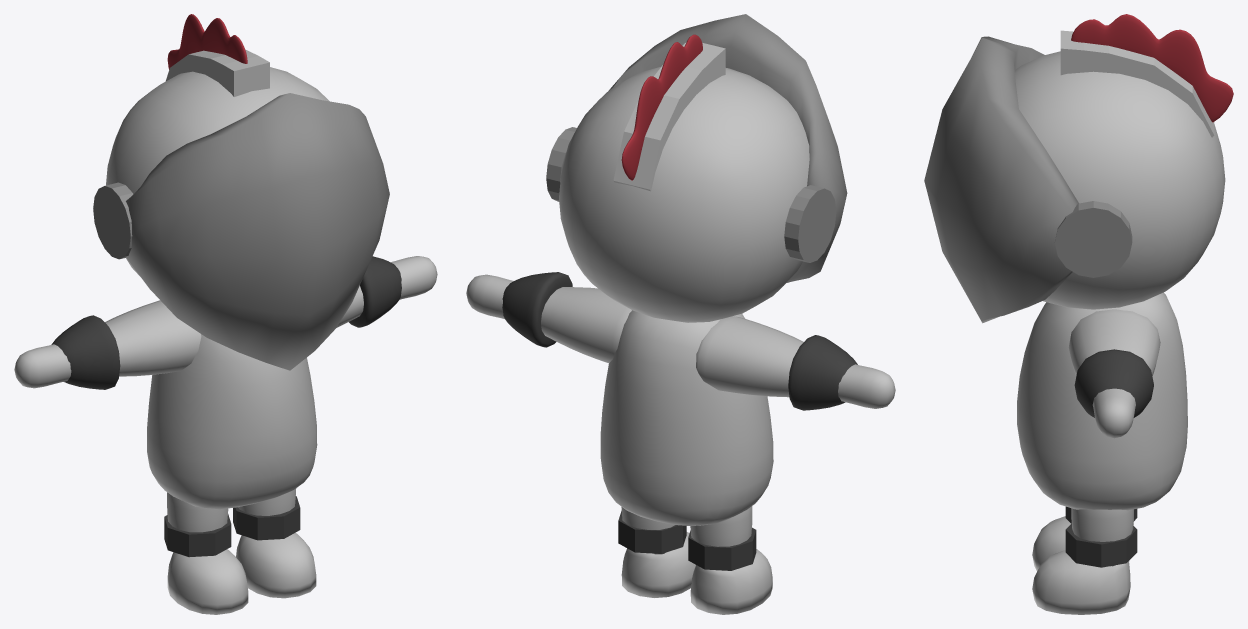
Rendered from sd knight.fbx.
3 renders of one model, left to right at view 1: azimuth 30°, elevation 25°; view 2: azimuth 150°, elevation 25°; view 3: azimuth 270°, elevation 25°, orthographic. The views are drawn at different scales.
Parts seen in each view (by area): view 1: Cube, Cube.004, Cube.001, Cube.008, Cube.006, Cube.009, Cylinder.001, Cube.002, Cylinder, Cube.007, Cube.003; view 2: Cube.001, Cube.004, Cube.008, Cube, Cube.006, Cube.009, Cube.002, Cylinder, Cylinder.001, Cube.003, Cube.007; view 3: Cube.001, Cube, Cube.004, Cube.006, Cube.008, Cube.003, Cylinder, Cube.002, Cube.009, Cylinder.001, Cube.007.
Boxes of the visible parts, <box> form: Cube: <box>126,93,389,370</box>; Cube.004: <box>147,334,317,509</box>; Cube.001: <box>106,67,329,276</box>; Cube.008: <box>14,256,437,388</box>; Cube.006: <box>167,533,316,614</box>; Cube.009: <box>51,256,401,389</box>; Cylinder.001: <box>164,496,300,557</box>; Cube.002: <box>165,49,269,96</box>; Cylinder: <box>93,182,133,259</box>; Cube.007: <box>167,488,296,532</box>; Cube.003: <box>167,14,247,69</box>; Cube.001: <box>559,67,809,322</box>; Cube.004: <box>600,310,773,525</box>; Cube.008: <box>466,274,895,408</box>; Cube: <box>609,14,847,282</box>; Cube.006: <box>621,532,772,614</box>; Cube.009: <box>502,272,857,410</box>; Cube.002: <box>613,42,725,191</box>; Cylinder: <box>546,127,836,262</box>; Cylinder.001: <box>618,511,756,570</box>; Cube.003: <box>621,34,702,180</box>; Cube.007: <box>621,506,752,554</box>; Cube.001: <box>1014,51,1225,309</box>; Cube: <box>924,36,1078,323</box>; Cube.004: <box>1017,292,1187,510</box>; Cube.006: <box>1032,516,1130,614</box>; Cube.008: <box>1068,309,1160,438</box>; Cube.003: <box>1071,14,1233,122</box>; Cylinder: <box>1054,201,1132,277</box>; Cube.002: <box>1060,30,1214,137</box>; Cube.009: <box>1074,349,1153,417</box>; Cylinder.001: <box>1065,506,1137,567</box>; Cube.007: <box>1071,508,1133,566</box>.
Size of the model in its own units: 411 by 520 by 256.
